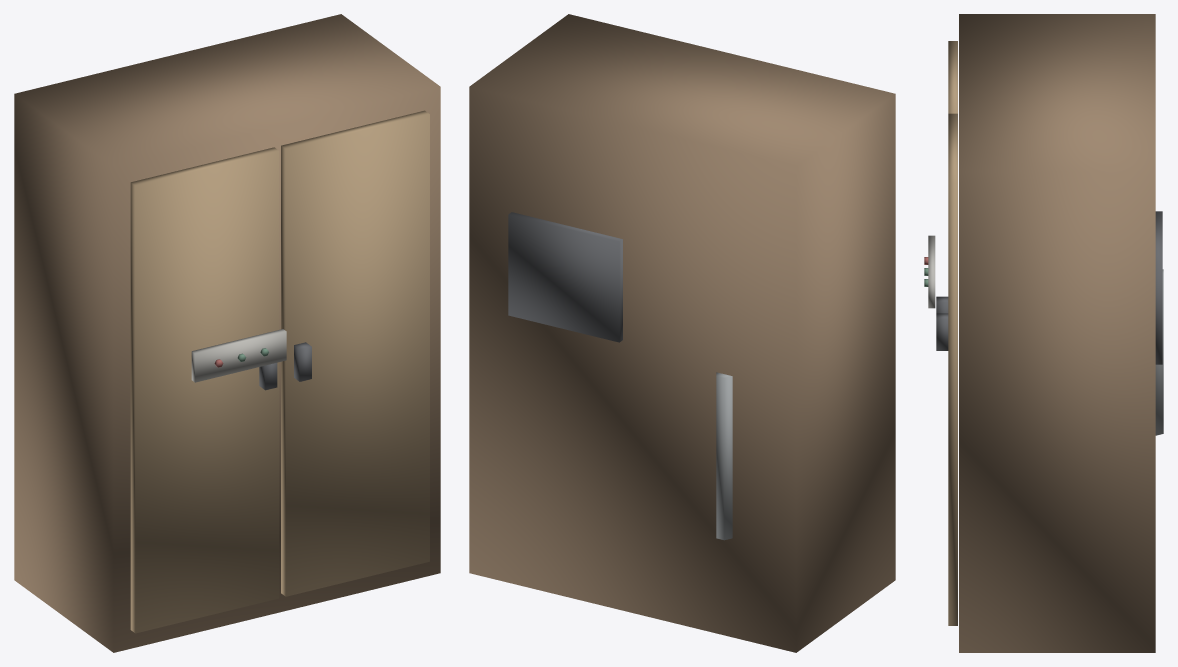
The model's file is lab_reagent_cabinet__service.glb.
3 views of the same model, side by side, from view 1: azimuth 30°, elevation 25°; view 2: azimuth 150°, elevation 25°; view 3: azimuth 270°, elevation 25° (orthographic).
Visible parts, largest first — view 1: world; view 2: world; view 3: world.
Part boxes in pixels (x1=…): world: x1=14, y1=14, x2=440, y2=652; world: x1=469, y1=14, x2=895, y2=652; world: x1=924, y1=14, x2=1163, y2=652.
Bounding box in the file's own units: 0.95 × 1.35 × 0.6091.
